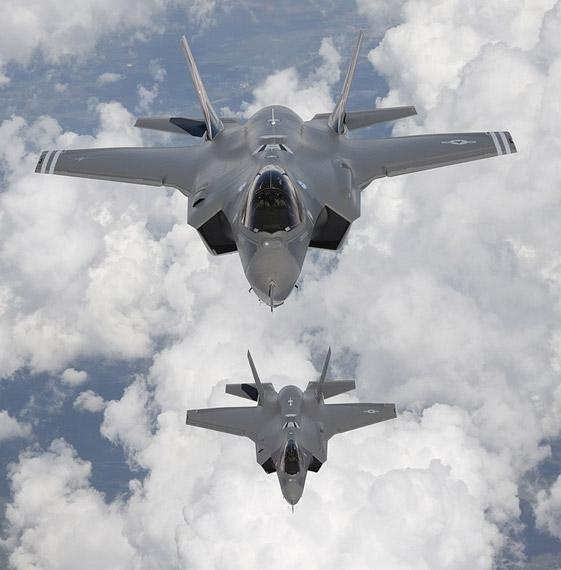airplane: (26, 26, 518, 317), (183, 342, 398, 515)
